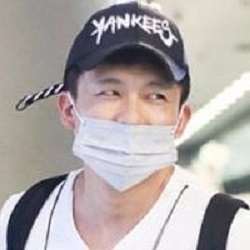mask: (68, 112, 179, 193)
